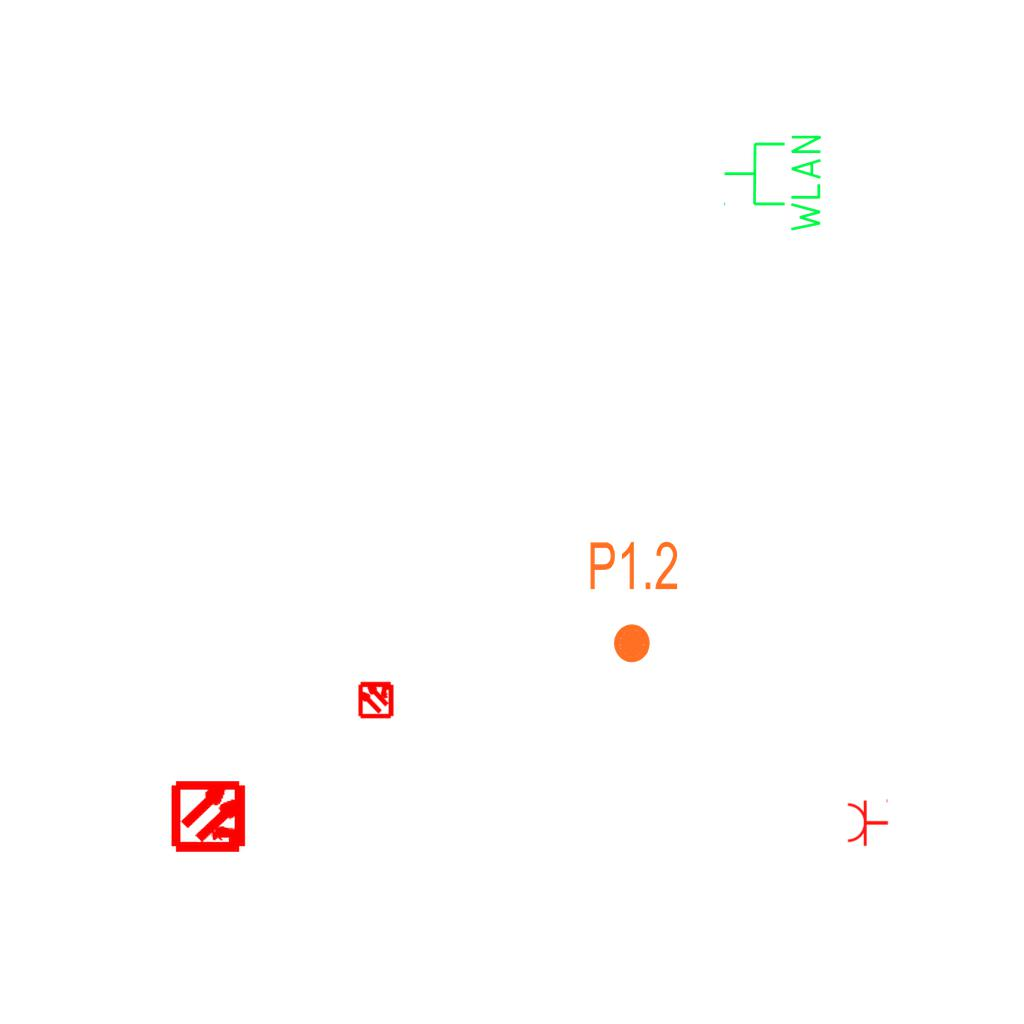Downlight_LED_Einbauleuchten_Flur: (587, 538, 680, 666)
OT_Multisensormelder_(Kombination_RMO_WMD): (154, 760, 267, 873), (348, 671, 404, 727)
Schukosteckdose_einfach: (846, 797, 889, 847)
WLAN: (721, 131, 825, 236)
